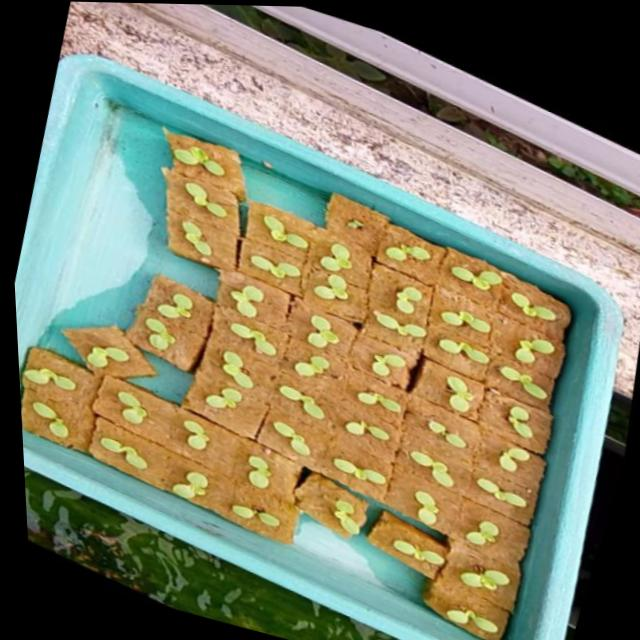Baby: (37, 408, 98, 452), (101, 344, 160, 389), (469, 526, 535, 566), (441, 425, 500, 464), (109, 438, 166, 478), (525, 379, 583, 417), (225, 358, 274, 399), (274, 261, 325, 299), (390, 359, 435, 400), (59, 387, 114, 419), (248, 335, 297, 370), (535, 414, 578, 452), (433, 464, 477, 501), (399, 321, 454, 350), (195, 157, 248, 187), (301, 396, 346, 431), (207, 194, 250, 229), (502, 492, 552, 522), (156, 327, 195, 365), (466, 350, 518, 377), (289, 224, 332, 256), (540, 303, 586, 332), (480, 277, 533, 302), (473, 387, 504, 425), (254, 296, 288, 330), (332, 327, 364, 361), (365, 432, 414, 454), (379, 402, 425, 425), (205, 232, 234, 267), (191, 482, 227, 510), (139, 402, 169, 435), (224, 398, 262, 423), (338, 286, 374, 312), (545, 353, 585, 376), (179, 302, 214, 328), (346, 256, 377, 285), (413, 254, 459, 273), (480, 323, 519, 345), (523, 459, 557, 484), (437, 504, 462, 538), (301, 436, 329, 466), (203, 431, 229, 462), (316, 366, 352, 388), (268, 467, 292, 500), (422, 297, 450, 325)
